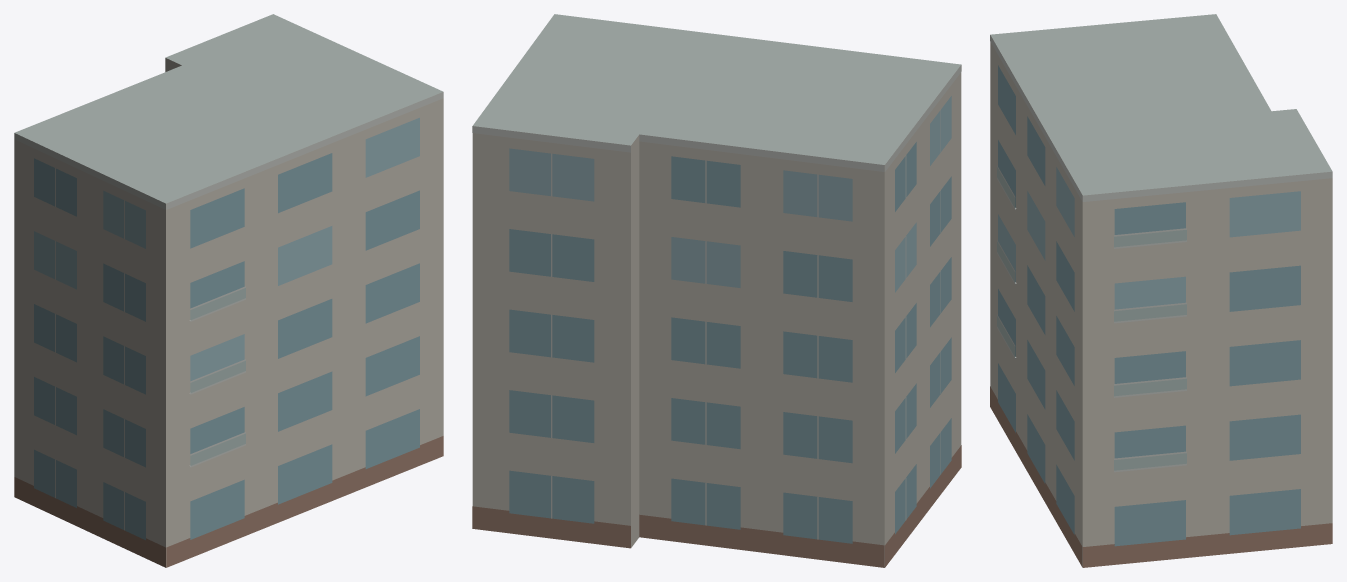
Rendered from survey-upis-32798346.glb.
3 views of the same model, side by side, from view 1: azimuth 30°, elevation 25°; view 2: azimuth 150°, elevation 25°; view 3: azimuth 270°, elevation 25° (orthographic). The views are drawn at different scales.
Visible parts, largest first — view 1: survey-upis-32798346.tmp; view 2: survey-upis-32798346.tmp; view 3: survey-upis-32798346.tmp.
Part boxes in pixels (box(x1,y1,x2,y2)): survey-upis-32798346.tmp: box(14, 14, 443, 567); survey-upis-32798346.tmp: box(472, 14, 961, 567); survey-upis-32798346.tmp: box(990, 14, 1332, 567).
Bounding box in the file's own units: 14.55 × 13.9 × 11.6.
